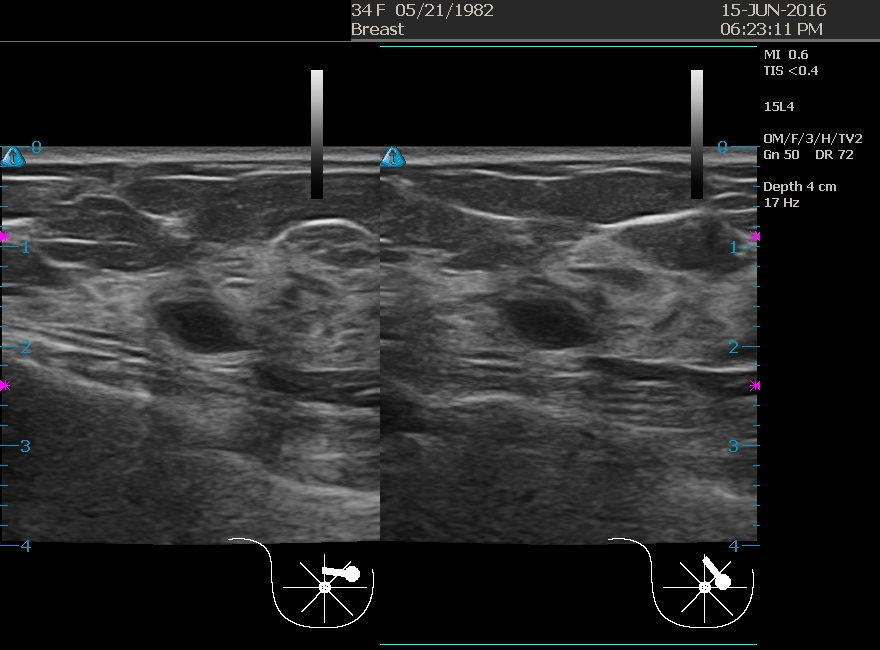BIRADS_3: (106, 214, 307, 414), (440, 223, 640, 423)
